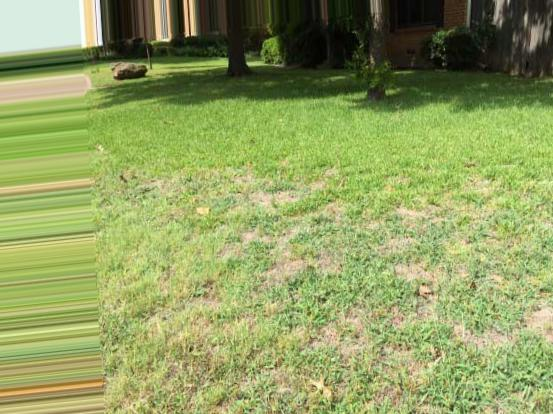patch: (440, 317, 524, 353), (188, 286, 228, 313), (327, 321, 371, 345), (247, 190, 300, 208), (270, 257, 313, 279), (245, 228, 295, 241), (404, 209, 439, 220)
